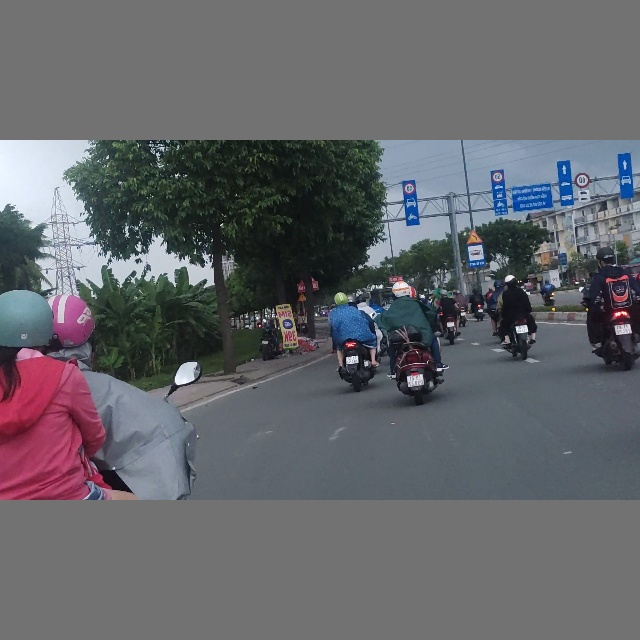I.434a: (467, 244, 486, 267)
P.127*50: (403, 183, 415, 195), (492, 171, 503, 183)
P.127*60: (575, 172, 590, 188)
S.505a*Xe tai va cong: (578, 189, 590, 202)
W.201b: (466, 230, 483, 245)
